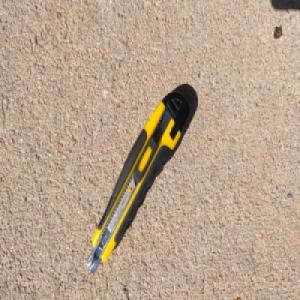Cutter: (86, 87, 193, 277)
